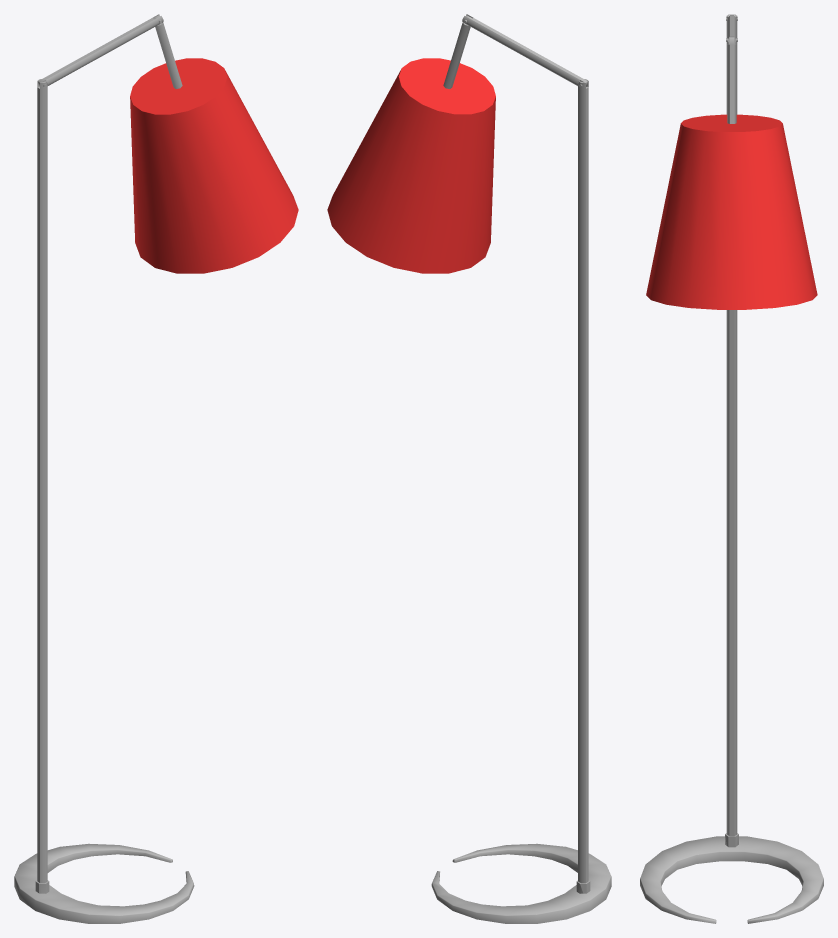
Rendered from torchere_2.FBX.
3 views of the same model, side by side, from view 1: azimuth 30°, elevation 25°; view 2: azimuth 150°, elevation 25°; view 3: azimuth 270°, elevation 25° (orthographic). The views are drawn at different scales.
Visible parts, largest first — view 1: torchere_2; view 2: torchere_2; view 3: torchere_2.
Part boxes in pixels (x1,y1,x2,y2): torchere_2: (14,14,298,923); torchere_2: (327,14,611,923); torchere_2: (640,14,823,923).
Bounding box in the file's own units: 0.4527 × 1.44 × 0.2729.
